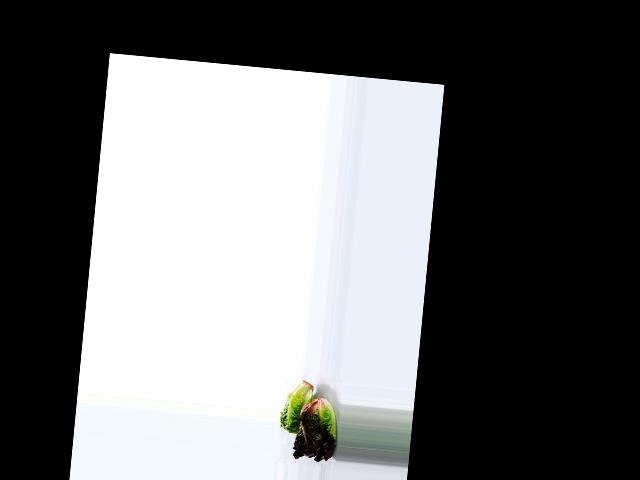lettuce: (278, 376, 316, 436)
